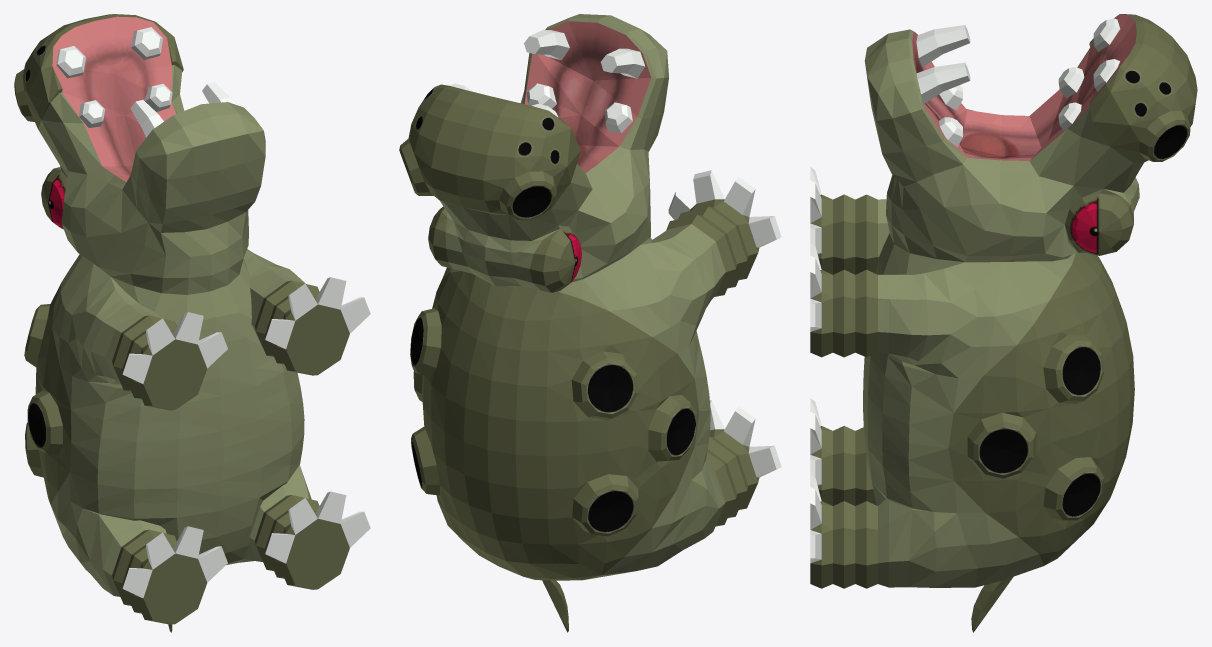
File: BR_Hippowdon-Shiny03.obj
3 renders of one model, left to right at view 1: azimuth 30°, elevation 25°; view 2: azimuth 150°, elevation 25°; view 3: azimuth 270°, elevation 25°, orthographic. The views are drawn at different scales.
Parts seen in each view (by area): view 1: kabaldon; view 2: kabaldon; view 3: kabaldon.
Part boxes in pixels (left/top/right/bottom): kabaldon: left=14, top=14, right=370, bottom=632; kabaldon: left=399, top=14, right=781, bottom=632; kabaldon: left=810, top=14, right=1197, bottom=632.
Bounding box in the file's own units: 16.04 × 34.39 × 20.07.
Materials: 2 (2 with a texture image).
